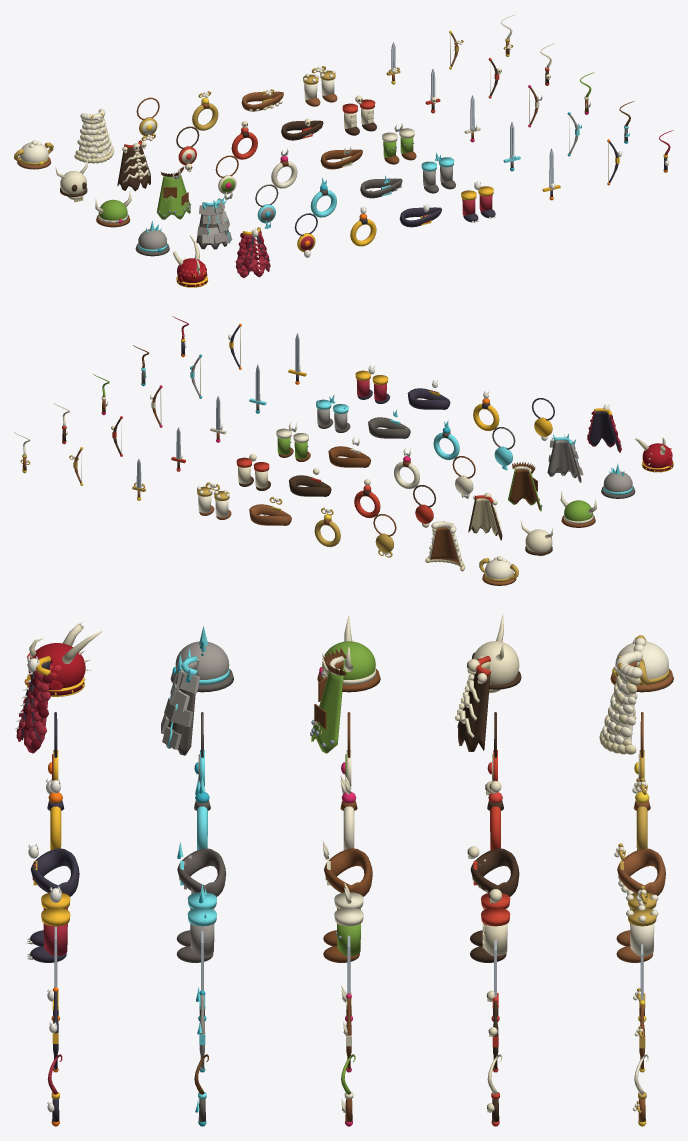
The model's file is equipements.glb.
3 views of the same model, one above another, from view 1: azimuth 30°, elevation 25°; view 2: azimuth 150°, elevation 25°; view 3: azimuth 270°, elevation 25° (orthographic). The views are drawn at different scales.
Visible parts, largest first — view 1: cape.002, cape.001, sangle.002, sangle.003, sangle.001, sangle.004, sangle, calotte.001, calotte.002, calotte.003, os, calotte; view 2: doublure.003, doublure.004, sangle.002, sangle, sangle.001, doublure, sangle.004, sangle.003, doublure.002, doublure.001, calotte.003, os (+3 smaller); view 3: cape.002, cape.001, sangle.002, sangle.001, sangle.003, sangle.004, sangle, calotte.003, os, calotte.002, calotte.001, calotte.
Boxes of the visible parts, x1,y1,x2,y2 form: cape.002: (156,175,190,219); cape.001: (117,146,150,190); sangle.002: (320,149,362,169); sangle.003: (360,178,402,198); sangle.001: (281,120,323,140); sangle.004: (399,207,441,227); sangle: (241,91,283,111); calotte.001: (98,199,127,220); calotte.002: (138,229,166,249); calotte.003: (177,258,206,282); os: (60,171,86,194); calotte: (19,142,48,162); doublure.003: (549,440,579,481); doublure.004: (589,411,618,451); sangle.002: (328,446,370,467); sangle: (249,504,291,525); sangle.001: (289,475,331,496); doublure: (430,527,459,564); sangle.004: (407,388,450,409); sangle.003: (368,417,410,438); doublure.002: (510,469,539,509); doublure.001: (470,498,499,538); calotte.003: (642,443,672,468); os: (525,529,552,552); cape.002: (311,667,343,753); cape.001: (457,671,490,751); sangle.002: (324,848,372,896); sangle.001: (470,848,519,896); sangle.003: (177,848,226,896); sangle.004: (30,848,79,896); sangle: (617,848,665,895); calotte.003: (28,643,85,688); os: (472,641,519,684); calotte.002: (175,641,229,679); calotte.001: (322,641,375,679); calotte: (615,641,668,679).
Size of the model in its own units: 17.61 by 1.74 by 10.8.
